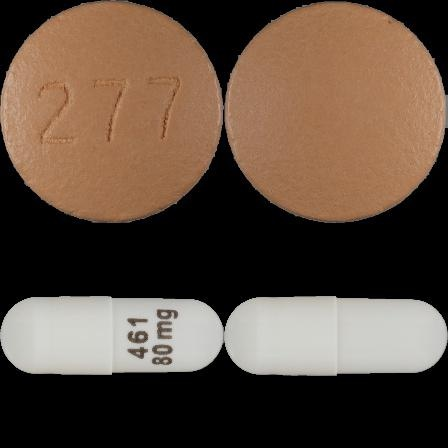0006-0277: (0, 0, 224, 224)
